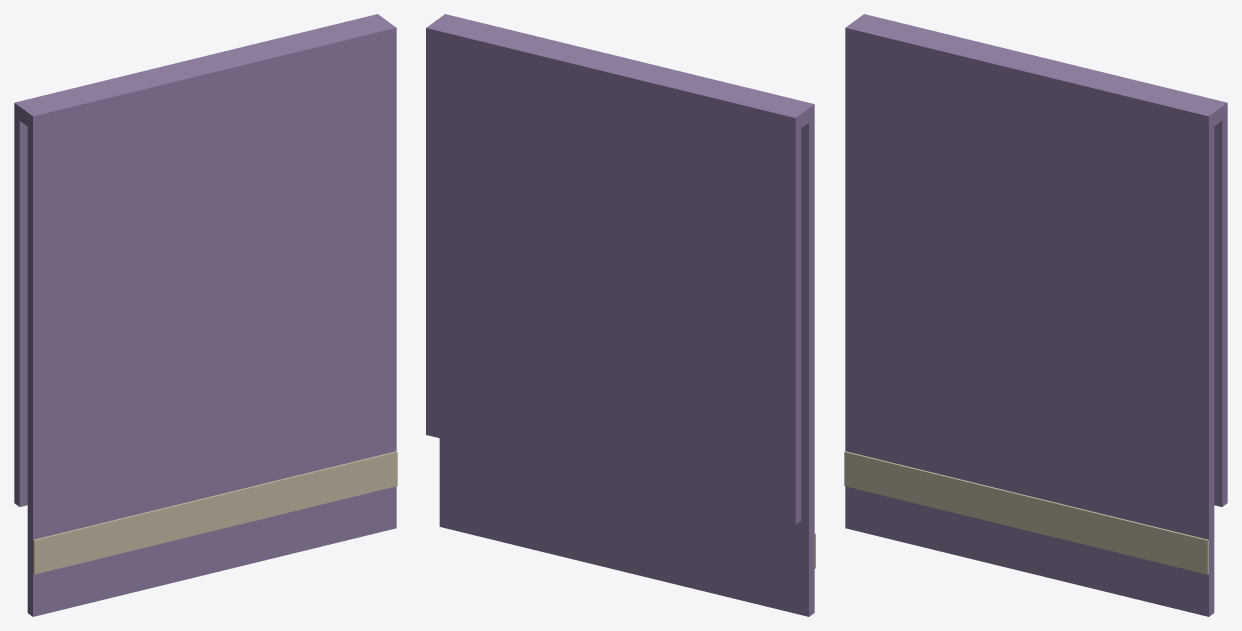
Rendered from towel-line-mint.glb.
The picture shows the model from 3 angles, left to right: view 1: azimuth 30°, elevation 25°; view 2: azimuth 150°, elevation 25°; view 3: azimuth 330°, elevation 25°; orthographic projection.
Visible parts, largest first — view 1: accent-lilac, paper; view 2: accent-lilac; view 3: accent-lilac, paper.
Boxes of the visible parts, x1,y1,x2,y2 form: accent-lilac: (14, 14, 396, 616); paper: (33, 451, 397, 574); accent-lilac: (426, 14, 814, 616); accent-lilac: (845, 14, 1227, 616); paper: (844, 451, 1208, 574).
Bounding box in the file's own units: 0.38 × 0.5 × 0.036.
